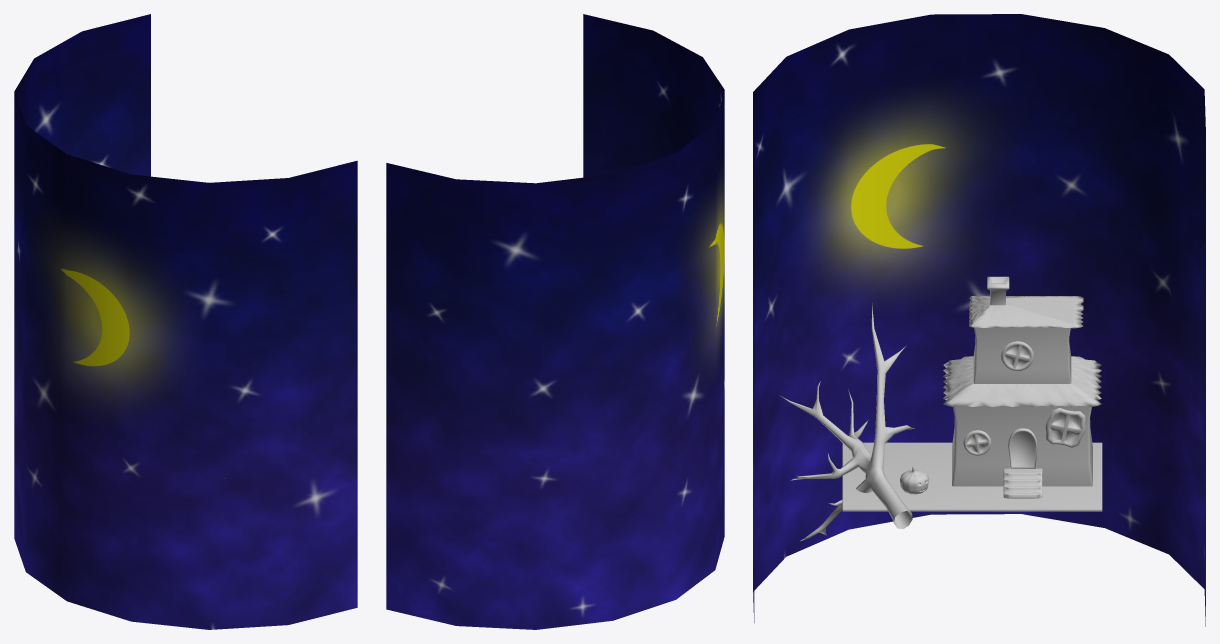
The model's file is Casa.obj.
3 renders of one model, left to right at view 1: azimuth 30°, elevation 25°; view 2: azimuth 150°, elevation 25°; view 3: azimuth 270°, elevation 25°, orthographic. The views are drawn at different scales.
Visible parts, largest first — view 1: Cylinder; view 2: Cylinder; view 3: Cylinder, Cube_001.
Part boxes in pixels (x1,y1,x2,y2): Cylinder: (14, 14, 357, 629); Cylinder: (386, 14, 724, 629); Cylinder: (753, 14, 1205, 626); Cube_001: (779, 276, 1102, 540).
Bounding box in the file's own units: 19.51 × 35.91 × 29.46.
